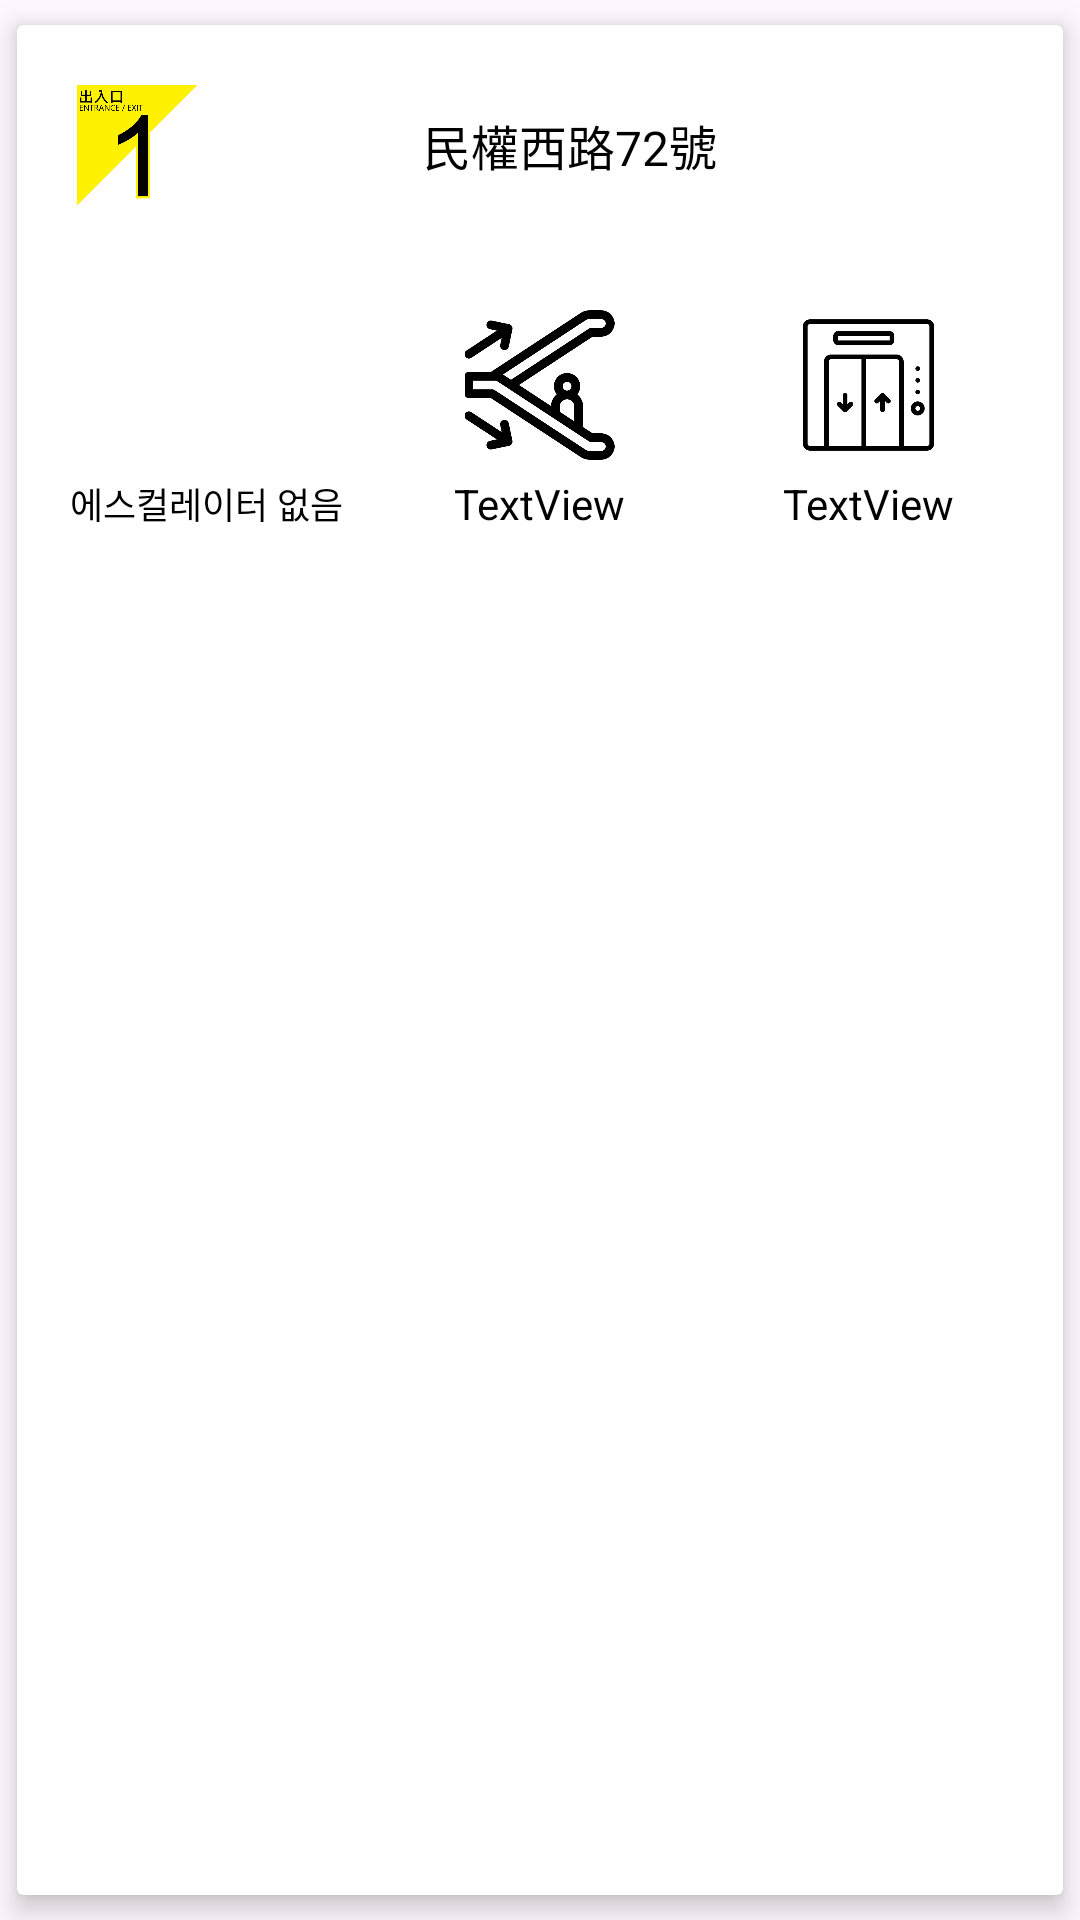

Icons on this 1080 × 1920 Android screen, each with its box as (x1, y1, x2, y2):
elevator: (803, 319, 934, 451)
escalator: (465, 310, 615, 460)
